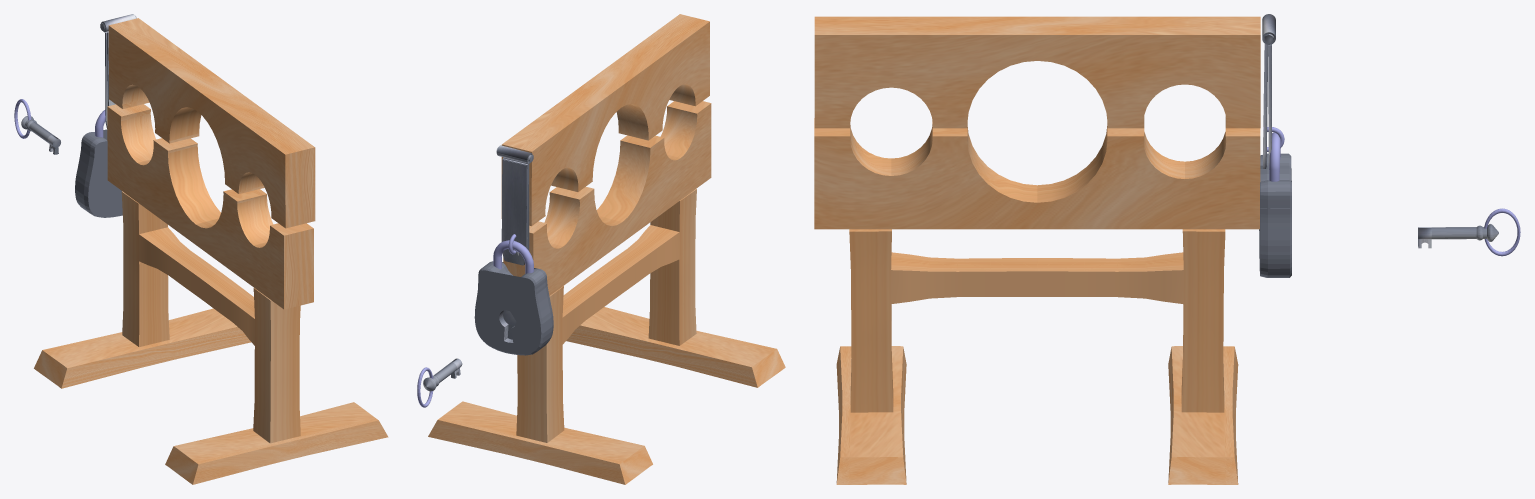
The model's file is jalkapuu.fbx.
3 views of the same model, side by side, from view 1: azimuth 30°, elevation 25°; view 2: azimuth 150°, elevation 25°; view 3: azimuth 270°, elevation 25° (orthographic). The views are drawn at different scales.
Parts seen in each view (by area): view 1: Cube, Cube.004, Cube.002, Circle.004, Cylinder.003; view 2: Cube, Cube.004, Cube.002, Circle.004, Cube.005, Circle.003, Cylinder.003; view 3: Cube, Cube.004, Cube.002, Circle.004, Cylinder.003.
Part boxes in pixels (left/top/right/bottom): Cube: left=34, top=191, right=388, bottom=484; Cube.004: left=108, top=18, right=315, bottom=228; Cube.002: left=107, top=104, right=313, bottom=309; Circle.004: left=75, top=129, right=122, bottom=217; Cylinder.003: left=21, top=116, right=60, bottom=154; Cube: left=428, top=189, right=785, bottom=484; Cube.004: left=501, top=14, right=709, bottom=226; Cube.002: left=503, top=101, right=711, bottom=295; Circle.004: left=474, top=261, right=553, bottom=355; Cube.005: left=501, top=158, right=528, bottom=265; Circle.003: left=493, top=240, right=533, bottom=273; Cylinder.003: left=423, top=358, right=462, bottom=391; Cube: left=836, top=229, right=1238, bottom=484; Cube.004: left=814, top=16, right=1260, bottom=128; Cube.002: left=814, top=118, right=1260, bottom=229; Circle.004: left=1259, top=153, right=1291, bottom=277; Cylinder.003: left=1418, top=224, right=1498, bottom=248.
Size of the model in its own units: 407 by 631 by 1006.
